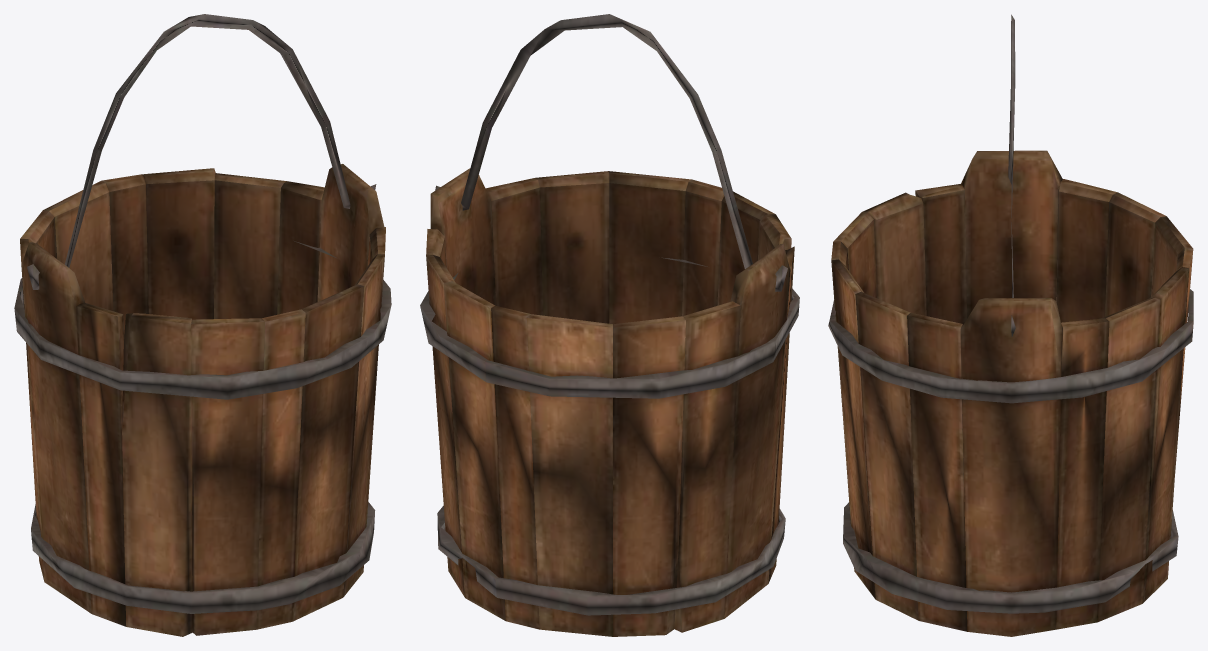
File: wooden_bucket_01.glb
3 views of the same model, side by side, from view 1: azimuth 30°, elevation 25°; view 2: azimuth 150°, elevation 25°; view 3: azimuth 270°, elevation 25° (orthographic). The views are drawn at different scales.
Parts seen in each view (by area): view 1: wooden_bucket_01, wooden_bucket_01_handle; view 2: wooden_bucket_01, wooden_bucket_01_handle; view 3: wooden_bucket_01, wooden_bucket_01_handle.
Boxes of the visible parts, x1,y1,x2,y2 form: wooden_bucket_01: (14, 164, 391, 636); wooden_bucket_01_handle: (27, 14, 376, 289); wooden_bucket_01: (420, 168, 799, 636); wooden_bucket_01_handle: (435, 14, 787, 291); wooden_bucket_01: (828, 150, 1193, 636); wooden_bucket_01_handle: (1008, 14, 1015, 336).
Size of the model in its own units: 0.3643 by 0.5493 by 0.3354.
1 material, 1 textured.
